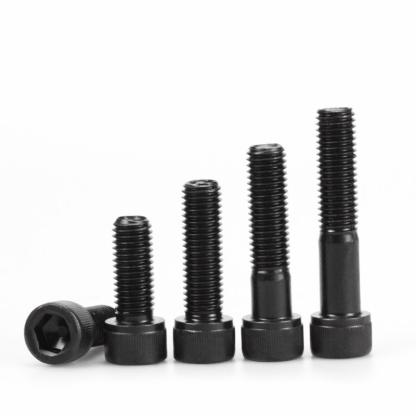FOD: (310, 103, 374, 360), (238, 141, 306, 364), (170, 174, 238, 366), (100, 211, 169, 369), (22, 295, 114, 367)
